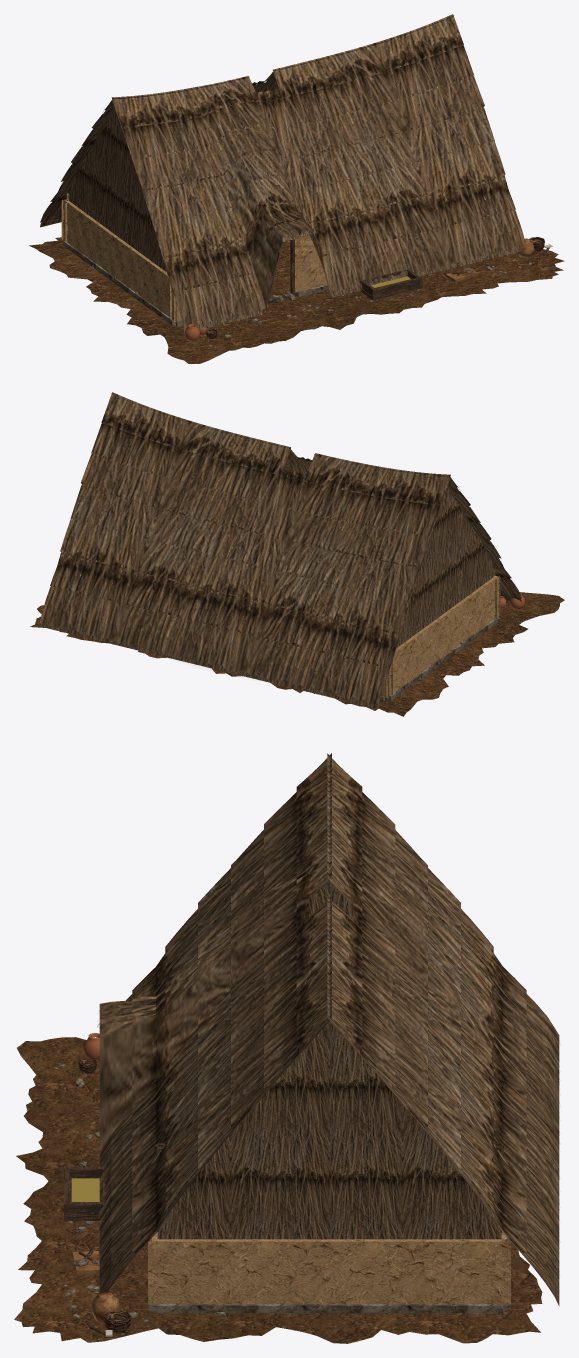
Rendered from farm.glb.
3 views of the same model, one above another, from view 1: azimuth 30°, elevation 25°; view 2: azimuth 150°, elevation 25°; view 3: azimuth 270°, elevation 25° (orthographic). The views are drawn at different scales.
Parts seen in each view (by area): view 1: part_18, part_1, part_5, part_8, part_4, part_0, part_9; view 2: part_18, part_1, part_5, part_4; view 3: part_18, part_1, part_5, part_4, part_8, part_9, part_6.
Boxes of the visible parts, x1=… form: part_18: x1=40, y1=14, x2=524, y2=333; part_1: x1=29, y1=237, x2=564, y2=363; part_5: x1=61, y1=193, x2=485, y2=322; part_8: x1=268, y1=206, x2=549, y2=303; part_4: x1=63, y1=241, x2=474, y2=326; part_0: x1=269, y1=240, x2=290, y2=297; part_9: x1=446, y1=238, x2=534, y2=282; part_18: x1=39, y1=392, x2=521, y2=708; part_1: x1=30, y1=592, x2=564, y2=716; part_5: x1=80, y1=570, x2=500, y2=697; part_4: x1=380, y1=616, x2=500, y2=701; part_18: x1=99, y1=753, x2=559, y2=1305; part_1: x1=14, y1=1037, x2=542, y2=1343; part_5: x1=148, y1=1021, x2=510, y2=1304; part_4: x1=74, y1=1250, x2=511, y2=1314; part_8: x1=64, y1=1144, x2=503, y2=1335; part_9: x1=72, y1=1251, x2=120, y2=1322; part_6: x1=78, y1=1058, x2=501, y2=1333.
Bounding box in the file's own units: 8.28 × 3.87 × 6.25.
Materials: 19 (11 with a texture image).
